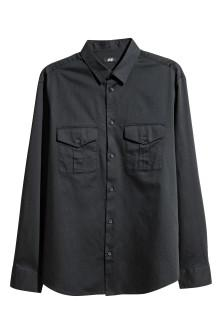teeshirt: (11, 38, 216, 295)
